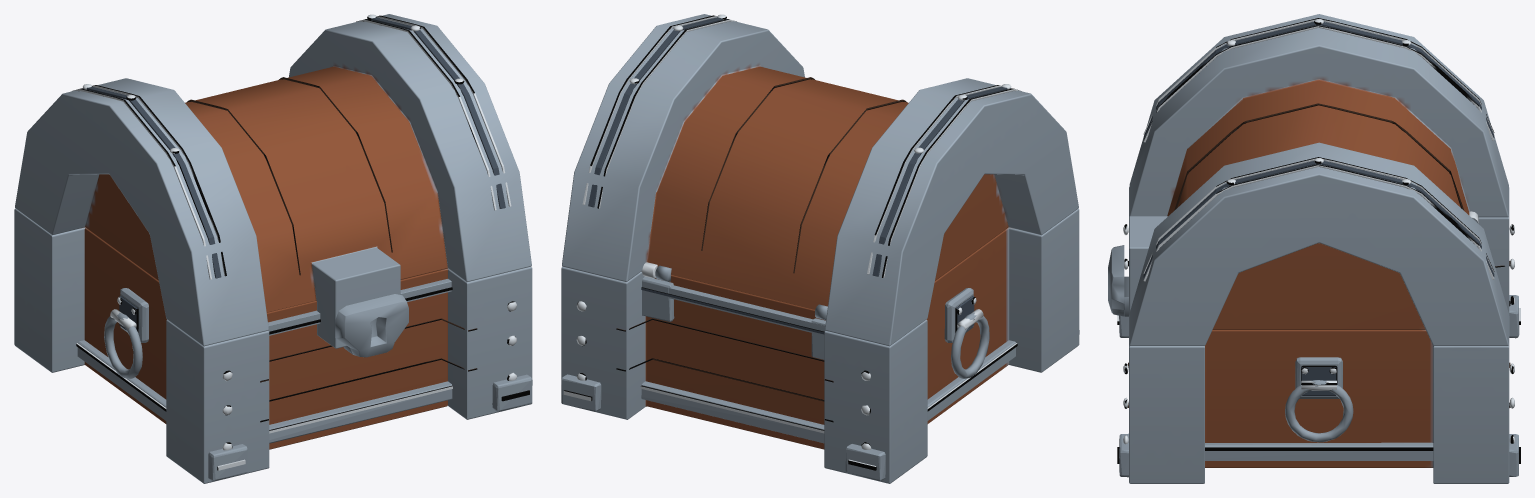
The model's file is ironbound-trail.glb.
3 renders of one model, left to right at view 1: azimuth 30°, elevation 25°; view 2: azimuth 150°, elevation 25°; view 3: azimuth 270°, elevation 25°, orthographic.
Visible parts, largest first — view 1: LidShell, Body; view 2: LidShell, Body; view 3: LidShell, Body.
Boxes of the visible parts, bbox=[...] form: LidShell: bbox=[15, 14, 531, 357]; Body: bbox=[14, 208, 532, 483]; LidShell: bbox=[562, 14, 1078, 346]; Body: bbox=[561, 208, 1079, 483]; LidShell: bbox=[1108, 14, 1508, 345]; Body: bbox=[1117, 187, 1520, 483].
Bounding box in the file's own units: 2 × 1.83 × 2.17.
Materials: 1 (1 with a texture image).
